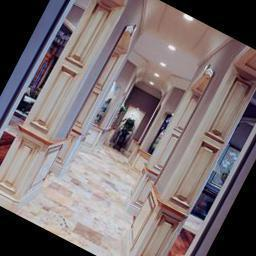Matera: (106, 115, 138, 157)
